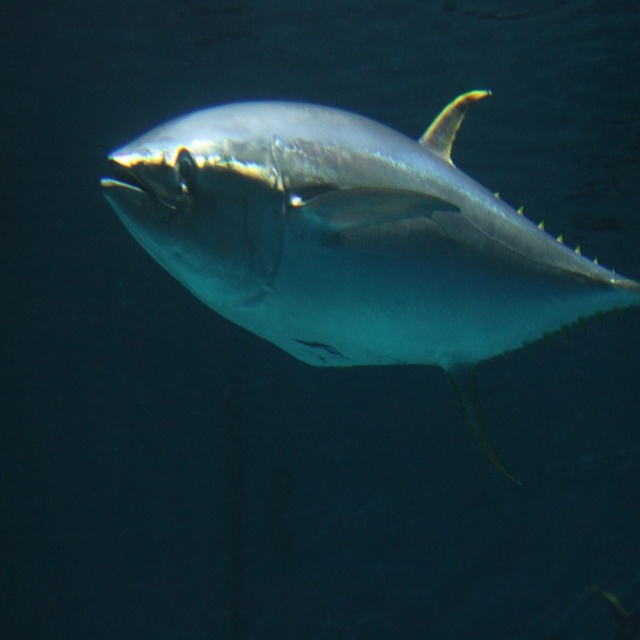Fish: (100, 90, 640, 485)
